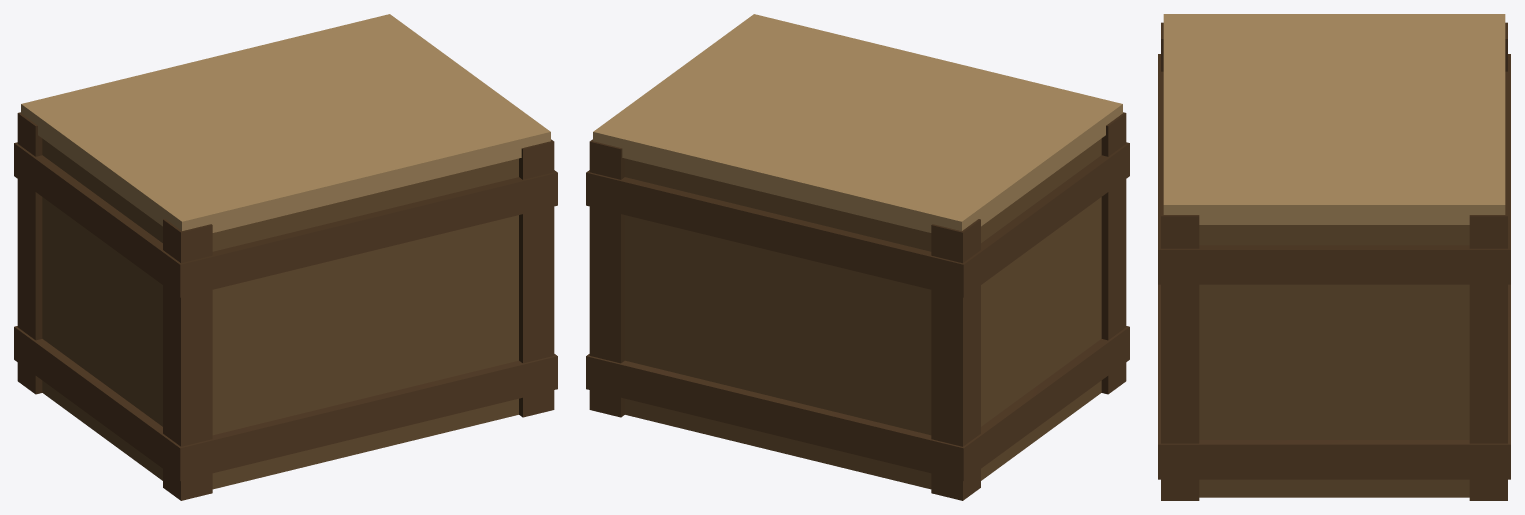
Rendered from Crate.fbx.
3 views of the same model, side by side, from view 1: azimuth 30°, elevation 25°; view 2: azimuth 150°, elevation 25°; view 3: azimuth 270°, elevation 25° (orthographic). The views are drawn at different scales.
Parts seen in each view (by area): view 1: Crate; view 2: Crate; view 3: Crate.
Part boxes in pixels (x1,y1,x2,y2): Crate: (14,14,557,500); Crate: (586,14,1129,500); Crate: (1158,14,1510,500).
Bounding box in the file's own units: 0.84 × 0.59 × 0.64.
